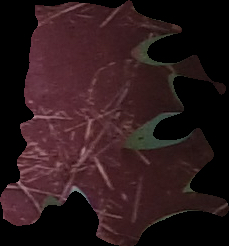soil: (1, 1, 229, 245)
